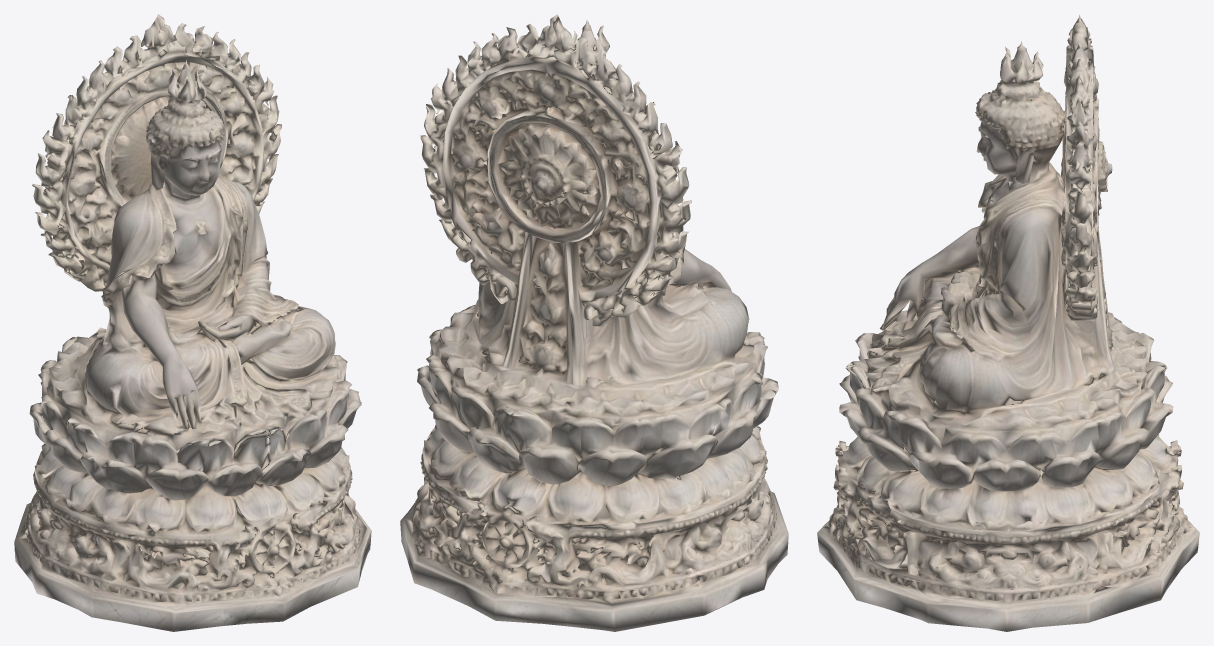
3 views of the same model, side by side, from view 1: azimuth 30°, elevation 25°; view 2: azimuth 150°, elevation 25°; view 3: azimuth 270°, elevation 25° (orthographic). The views are drawn at different scales.
Parts seen in each view (by area): view 1: four-heavenly-kings-01; view 2: four-heavenly-kings-01; view 3: four-heavenly-kings-01.
Part boxes in pixels (x1,y1,x2,y2): four-heavenly-kings-01: (14, 14, 371, 631); four-heavenly-kings-01: (400, 14, 788, 631); four-heavenly-kings-01: (817, 14, 1199, 631).
Bounding box in the file's own units: 0.6316 × 0.9994 × 0.6433.
1 material, 1 textured.
